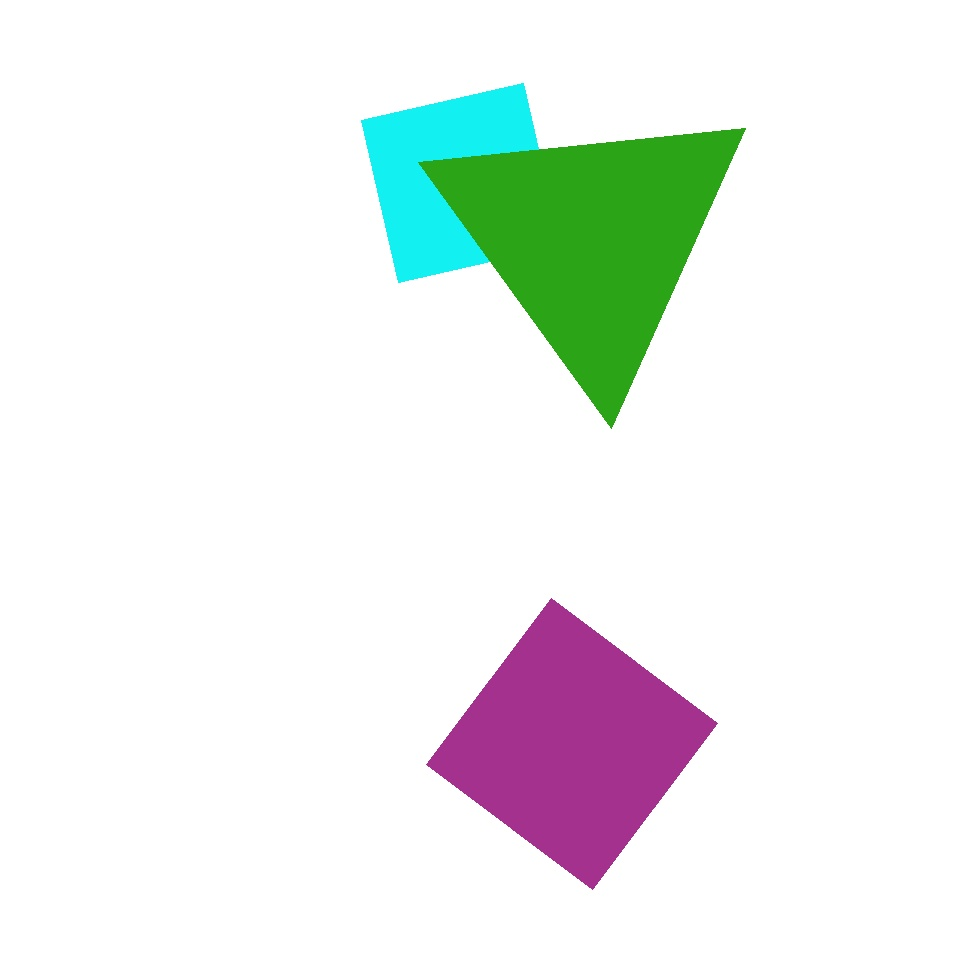circle: (429, 90, 756, 390), (61, 214, 257, 418), (198, 599, 294, 693)
square: (426, 599, 717, 890), (362, 83, 560, 282), (296, 575, 486, 764)
triangle: (338, 20, 576, 258)
